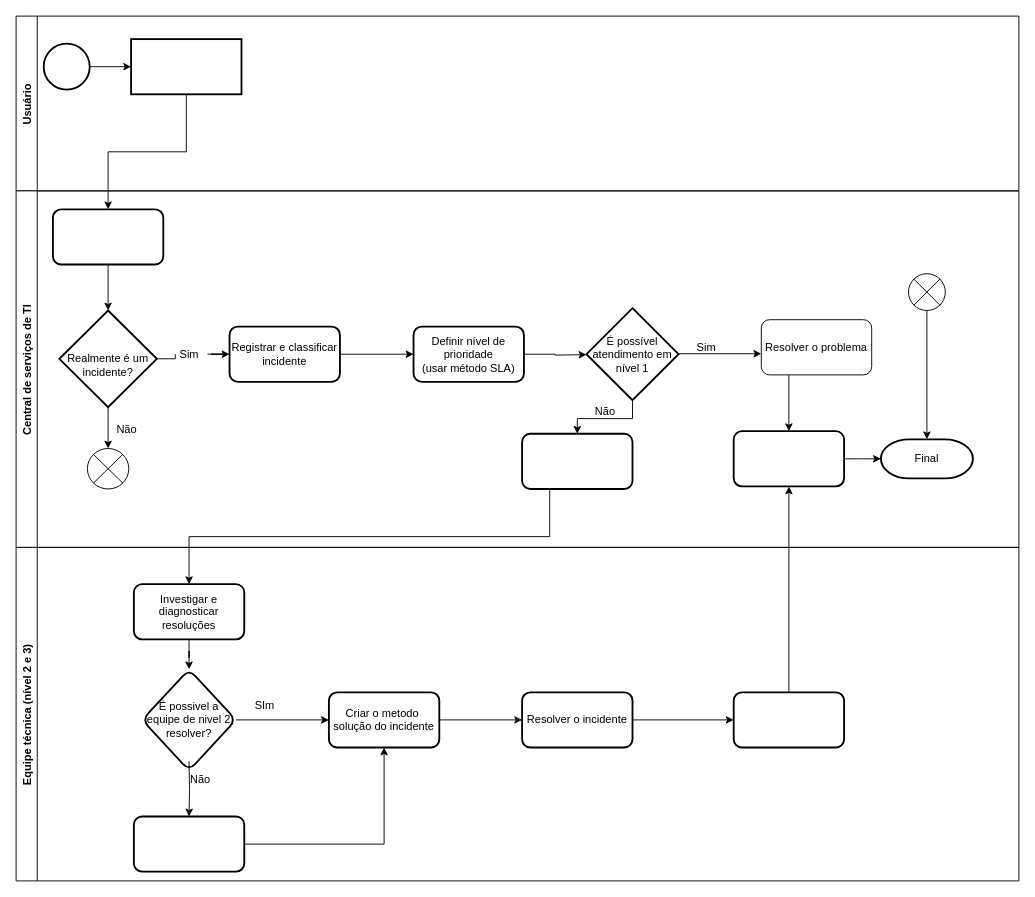
This 1035x897 diagram has some shape labels left out. Here are the shapes that lost their labels. From the top down, the centre of each, then its label:
point 186,66: Solicitar serviços de atendimento da Techberry
point 108,236: Receber atendimento
point 577,460: Enviar para a equipe de nível 2
point 788,458: Informar o usuário
point 788,719: Enviar para a central de atendimento
point 188,843: Passar a equipe técnica de nível 3
